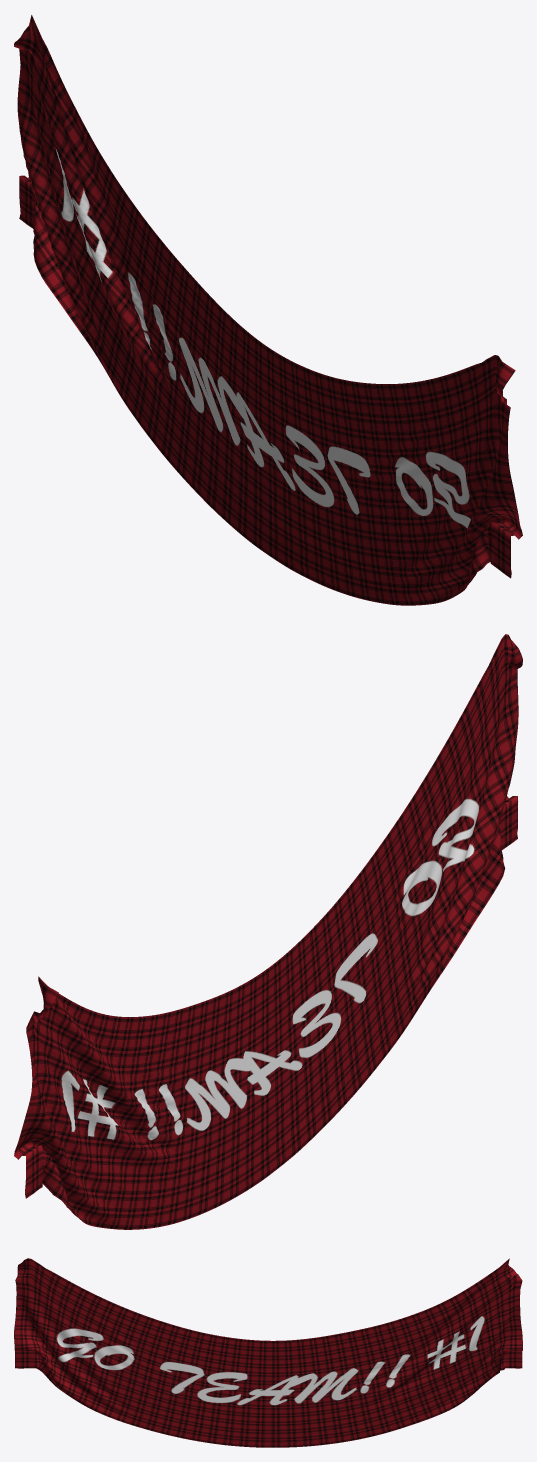
File: banner.fbx
3 views of the same model, one above another, from view 1: azimuth 30°, elevation 25°; view 2: azimuth 150°, elevation 25°; view 3: azimuth 270°, elevation 25° (orthographic). The views are drawn at different scales.
Visible parts, largest first — view 1: pPlane1; view 2: pPlane1; view 3: pPlane1.
Boxes of the visible parts, box(x1,y1,x2,y2) form: pPlane1: box(14, 15, 522, 605); pPlane1: box(14, 634, 522, 1229); pPlane1: box(14, 1258, 522, 1447).
Bounding box in the file's own units: 24.38 × 284 × 690.
